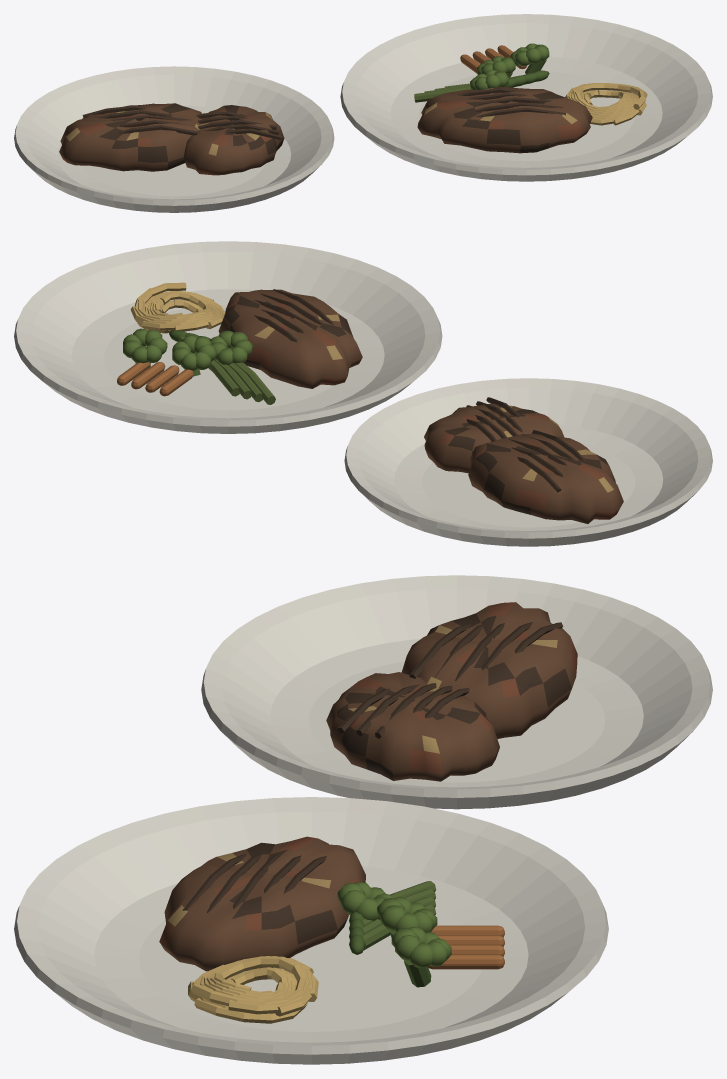
Rendered from steak.glb.
The picture shows the model from 3 angles, top to bottom: view 1: azimuth 30°, elevation 25°; view 2: azimuth 150°, elevation 25°; view 3: azimuth 270°, elevation 25°; orthographic projection. The views are drawn at different scales.
Visible parts, largest first — view 1: steak; view 2: steak; view 3: steak.
Boxes of the visible parts, box(x1,y1,x2,y2) form: steak: box(14, 14, 712, 212); steak: box(14, 241, 712, 546); steak: box(14, 575, 712, 1064).
Size of the model in its own units: 0.538 by 0.0471 by 0.336.
